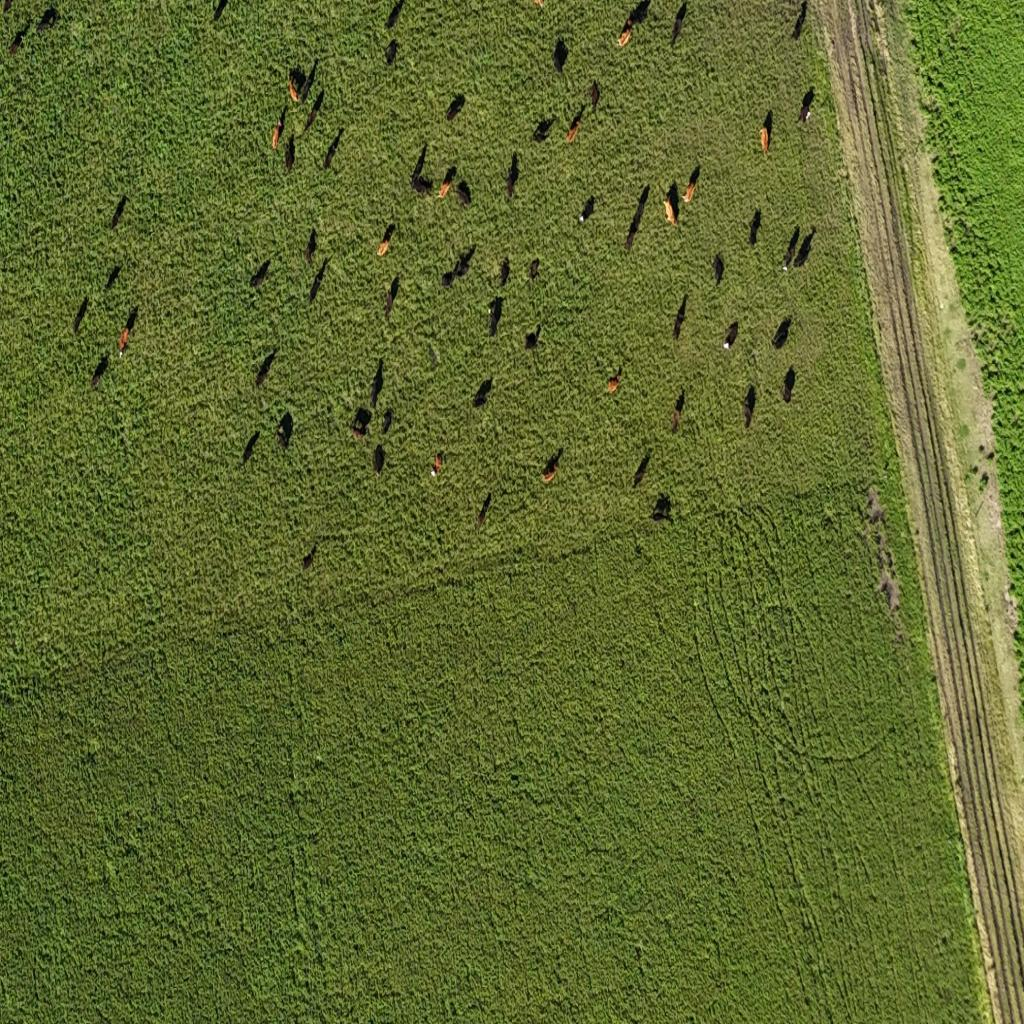cow: (625, 186, 648, 252), (309, 256, 329, 306), (793, 228, 815, 270), (257, 350, 278, 390), (782, 225, 800, 271), (324, 127, 342, 171), (384, 274, 400, 322), (370, 358, 384, 410), (377, 218, 396, 256), (671, 2, 687, 47), (454, 246, 475, 279), (92, 351, 110, 389), (772, 317, 792, 351), (276, 412, 293, 452), (250, 258, 271, 290), (412, 142, 428, 184), (566, 107, 584, 144), (304, 100, 323, 135), (663, 184, 678, 228), (351, 409, 371, 442), (505, 153, 519, 200), (684, 164, 700, 205), (633, 451, 650, 489), (542, 452, 561, 486), (488, 296, 503, 339), (673, 295, 687, 341), (74, 296, 90, 336), (411, 169, 433, 198), (742, 385, 756, 430), (439, 165, 457, 200), (475, 494, 491, 533), (671, 389, 685, 433), (242, 430, 259, 466), (552, 38, 568, 76), (8, 26, 28, 56), (472, 378, 492, 408), (111, 195, 128, 230), (104, 261, 122, 293), (446, 93, 465, 123), (385, 0, 404, 30), (36, 7, 57, 34), (748, 208, 762, 248), (272, 109, 285, 152), (652, 494, 671, 522), (723, 322, 739, 355), (578, 195, 595, 226), (119, 316, 131, 358), (532, 117, 552, 142), (795, 99, 809, 134), (285, 132, 296, 174), (305, 228, 317, 264), (526, 325, 541, 353), (712, 251, 724, 286), (781, 372, 794, 404), (212, 0, 230, 23), (373, 444, 385, 478), (287, 71, 299, 105), (456, 180, 471, 207), (608, 366, 622, 394), (384, 39, 398, 67), (498, 257, 510, 289), (440, 266, 456, 290), (590, 79, 600, 113), (301, 74, 312, 103), (302, 547, 315, 571), (528, 258, 540, 284), (617, 26, 631, 48), (381, 408, 392, 435), (432, 451, 444, 475), (762, 115, 770, 150), (625, 232, 636, 254)
